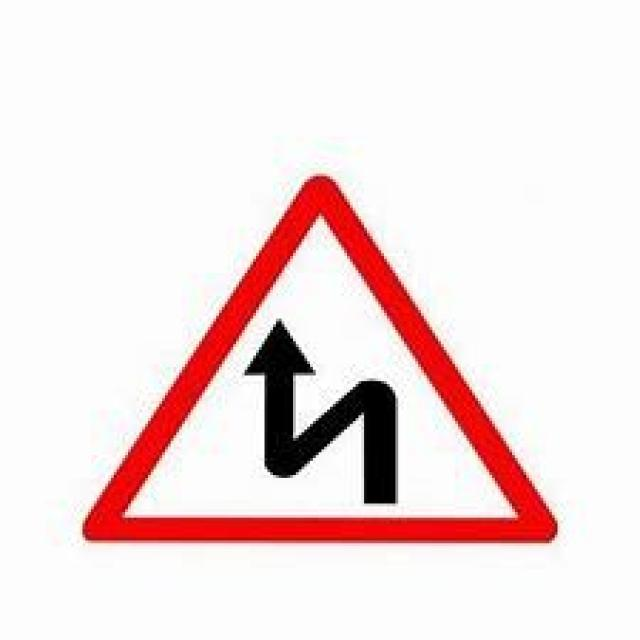left reverse bend: (76, 165, 565, 552)
